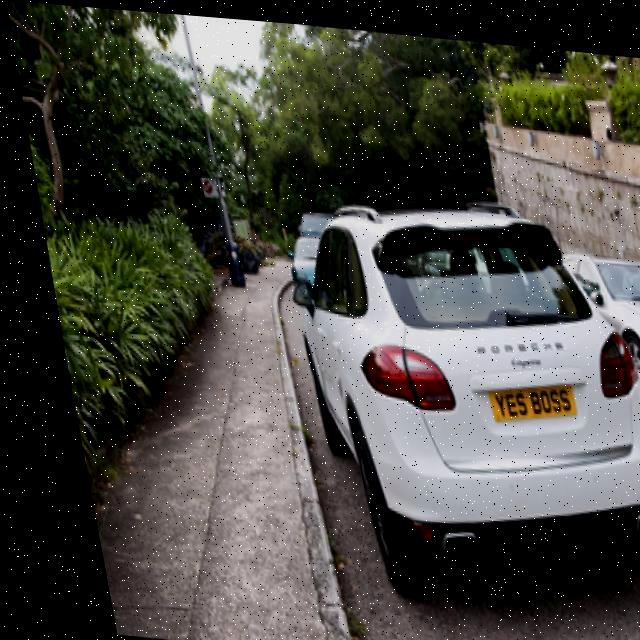license_plate: (466, 365, 564, 418)
